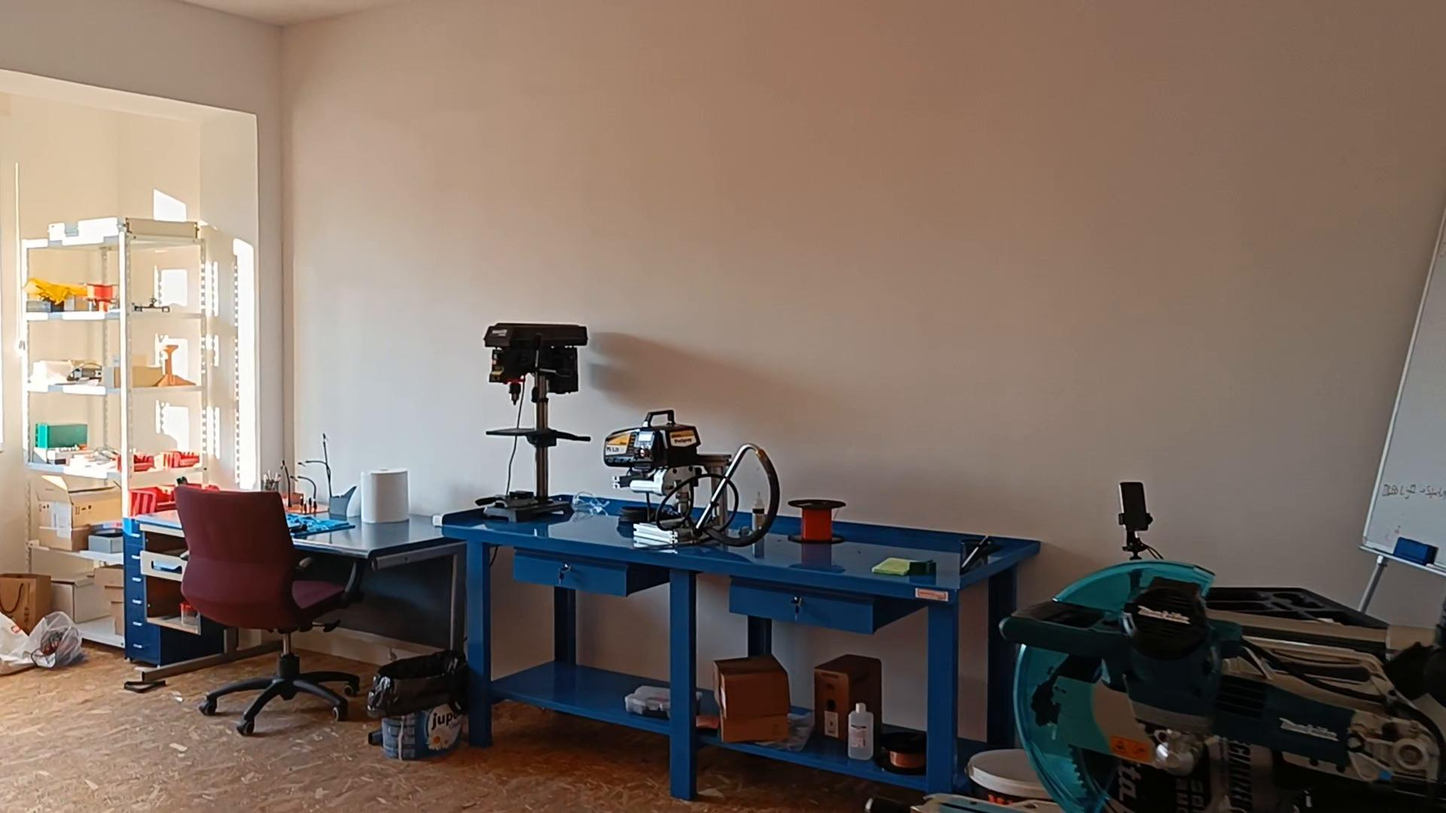ceiling: (180, 0, 396, 25)
floor: (0, 649, 888, 812)
wall: (0, 0, 1445, 597)
